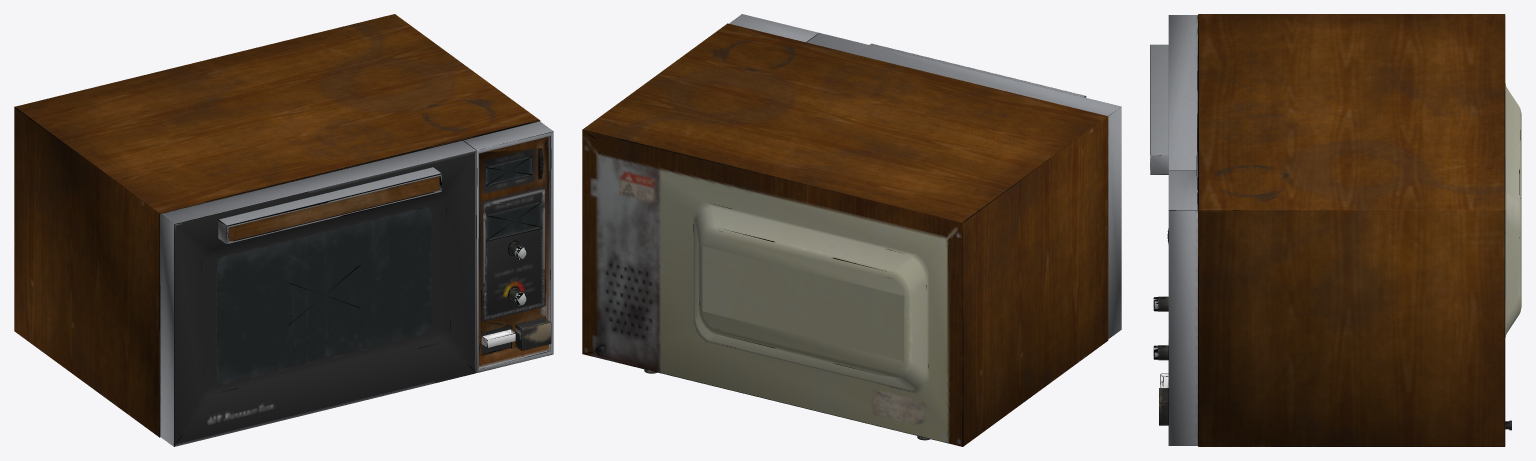
File: SM_Microwave_01.fbx
3 renders of one model, left to right at view 1: azimuth 30°, elevation 25°; view 2: azimuth 150°, elevation 25°; view 3: azimuth 270°, elevation 25°, orthographic. The views are drawn at different scales.
Parts seen in each view (by area): view 1: SM_Microwave_01_Housing, SM_Microwave_01_Door, SM_Microwave_01_Controls; view 2: SM_Microwave_01_Housing, SM_Microwave_01_Door; view 3: SM_Microwave_01_Housing, SM_Microwave_01_Door, SM_Microwave_01_Controls.
Boxes of the visible parts, x1,y1,x2,y2 form: SM_Microwave_01_Housing: [14, 14, 553, 446]; SM_Microwave_01_Door: [174, 150, 476, 446]; SM_Microwave_01_Controls: [481, 160, 551, 350]; SM_Microwave_01_Housing: [582, 14, 1121, 446]; SM_Microwave_01_Door: [869, 43, 1118, 105]; SM_Microwave_01_Housing: [1159, 14, 1521, 446]; SM_Microwave_01_Door: [1150, 15, 1168, 174]; SM_Microwave_01_Controls: [1153, 231, 1168, 425].
Size of the model in its own units: 0.5 by 0.3 by 0.4.
